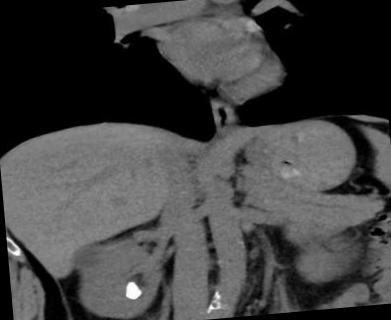Tas_Var: (118, 276, 149, 304)
